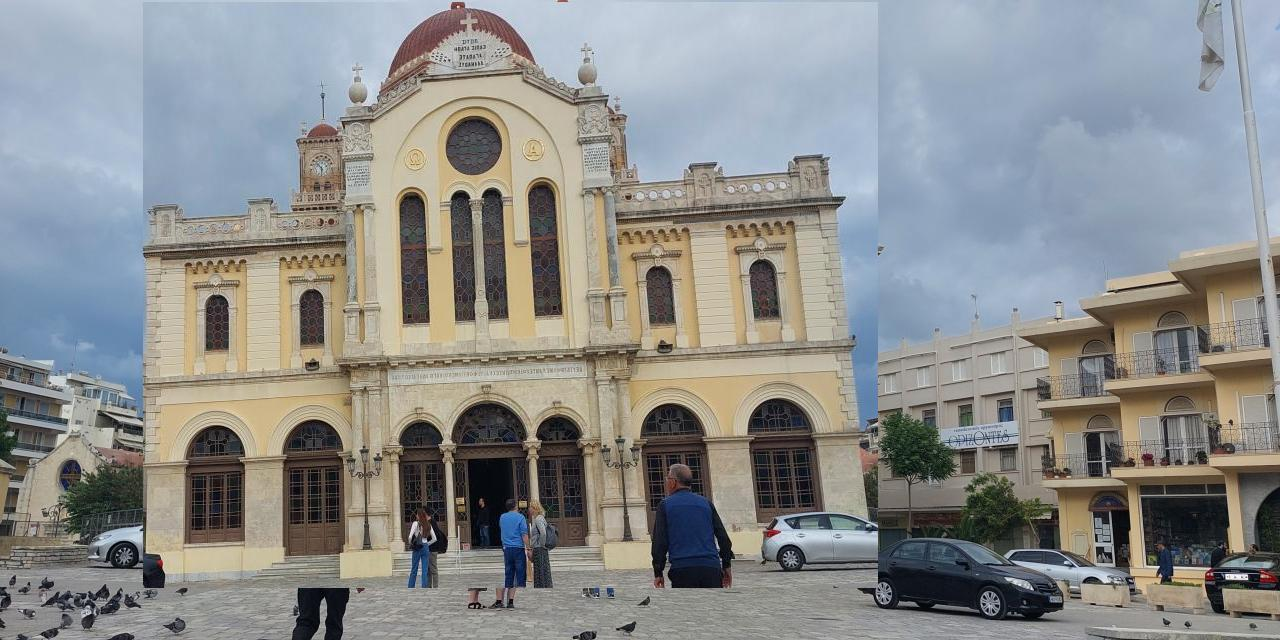Agios Minas: (144, 3, 879, 589)
